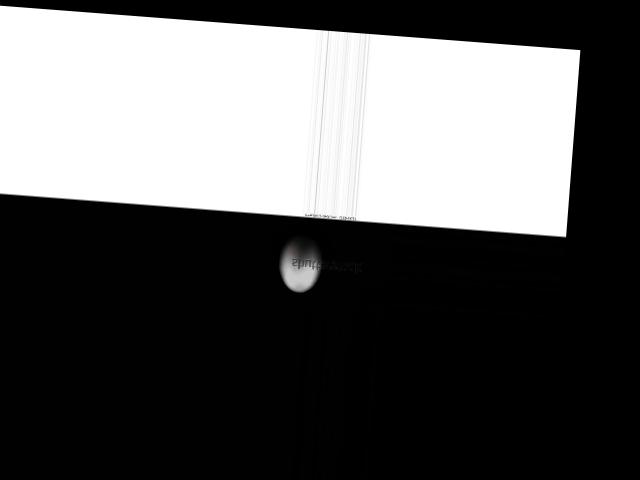egg: (276, 232, 323, 294)
